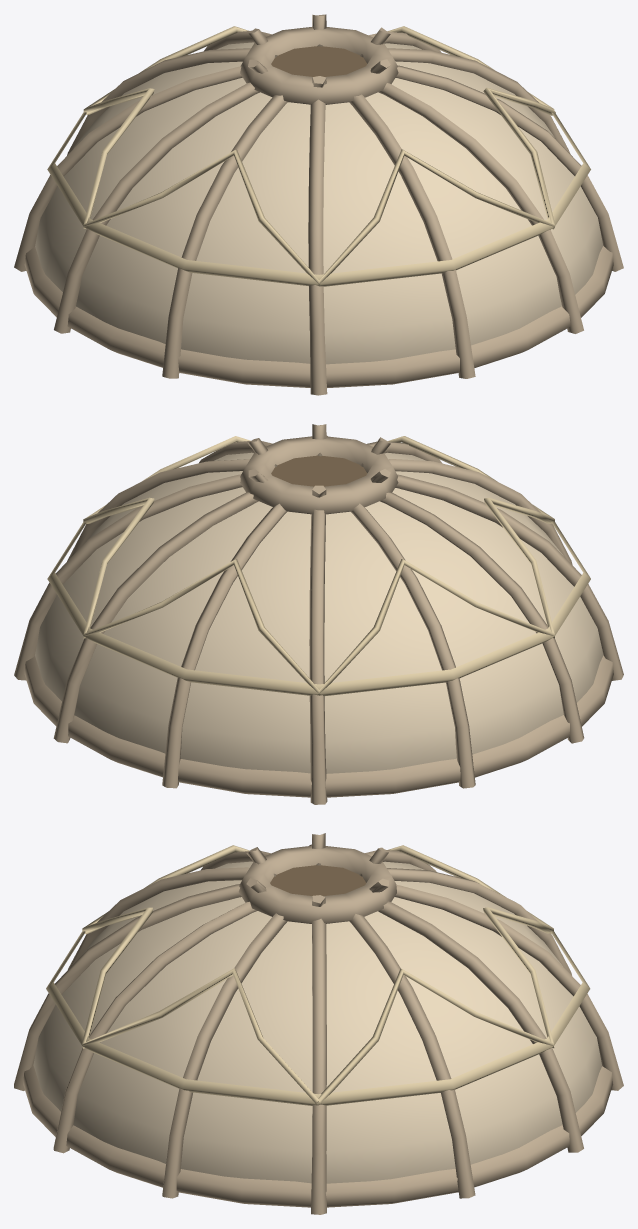
The model's file is building.domeroof.glb.
3 views of the same model, one above another, from view 1: azimuth 30°, elevation 25°; view 2: azimuth 150°, elevation 25°; view 3: azimuth 270°, elevation 25° (orthographic).
Visible parts, largest first — view 1: Paint, PaintDark, Rope, Door; view 2: Paint, PaintDark, Rope, Door; view 3: Paint, PaintDark, Rope, Door.
Boxes of the visible parts, x1,y1,x2,y2 form: Paint: (35,42,603,364); PaintDark: (14,14,623,395); Rope: (47,26,590,286); Door: (271,46,366,76); Paint: (35,452,603,773); PaintDark: (14,424,623,804); Rope: (47,436,590,696); Door: (271,455,367,486); Paint: (33,861,602,1183); PaintDark: (14,833,623,1214); Rope: (46,845,590,1105); Door: (270,865,366,896).
Size of the model in its own units: 2.49 by 1 by 2.48.
